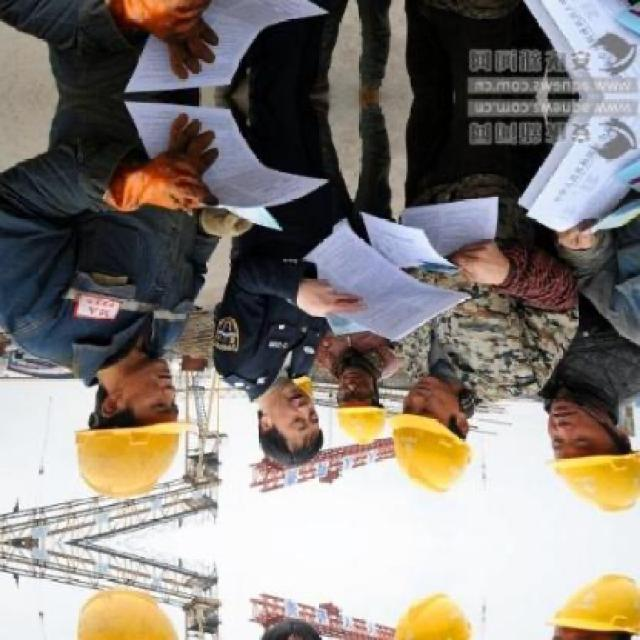con casco: (36, 328, 205, 508), (255, 358, 484, 468), (538, 371, 640, 522), (400, 352, 510, 489)
sin casco: (234, 353, 330, 472)
